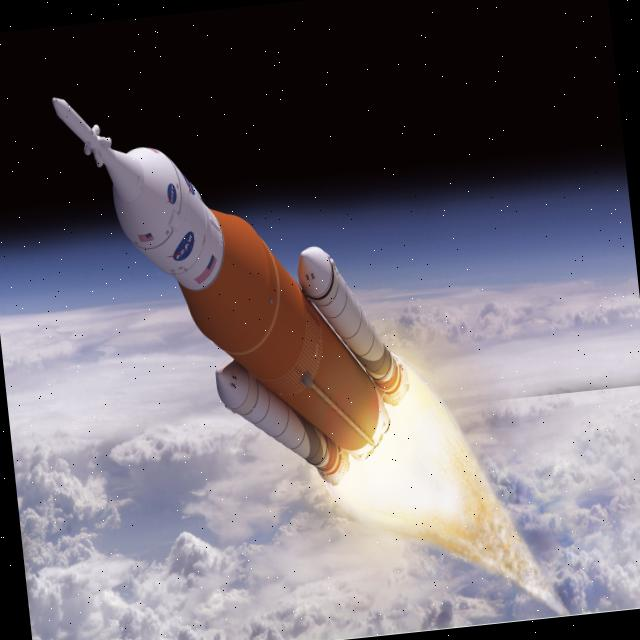rocket: (33, 81, 418, 491)
